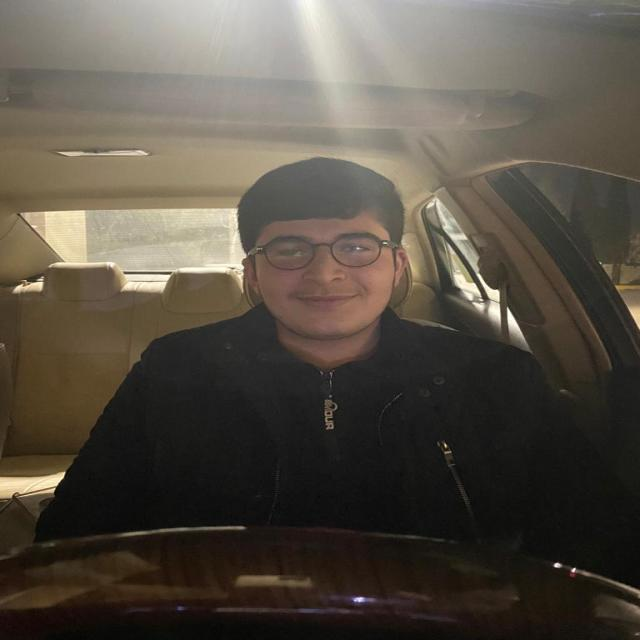person: (231, 160, 416, 346)
